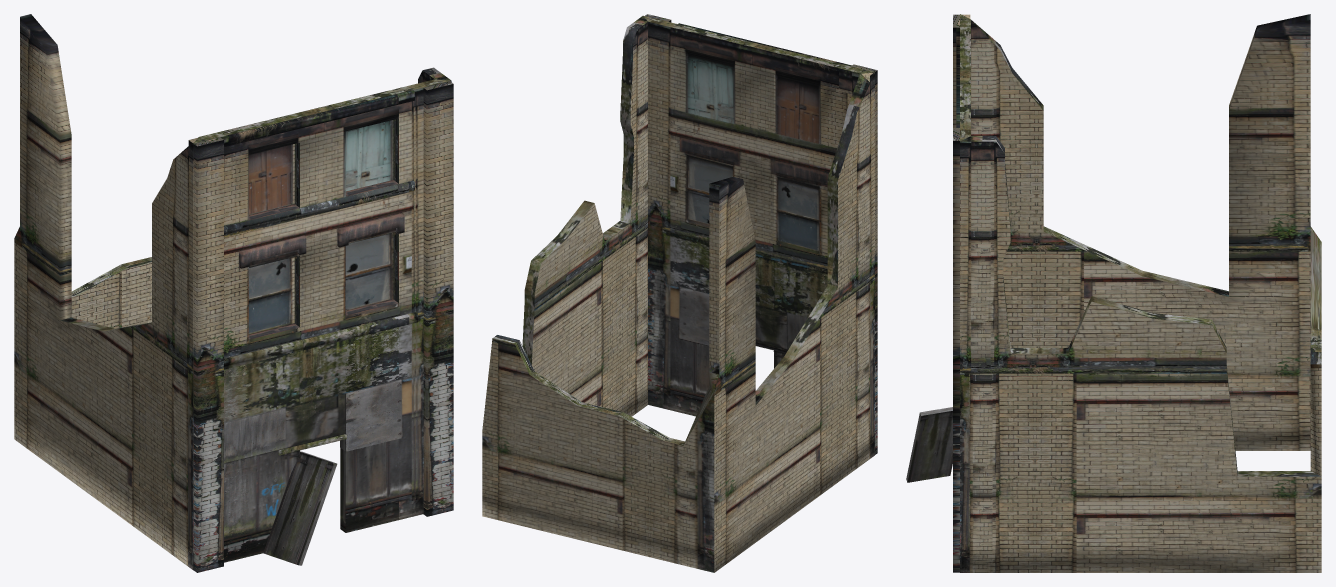
The model's file is building10.obj.
3 renders of one model, left to right at view 1: azimuth 30°, elevation 25°; view 2: azimuth 150°, elevation 25°; view 3: azimuth 270°, elevation 25°, orthographic. The views are drawn at different scales.
Parts seen in each view (by area): view 1: material24; view 2: material24; view 3: material24.
Boxes of the visible parts, x1,y1,x2,y2 form: material24: (14,14,453,572); material24: (482,14,877,572); material24: (906,14,1321,572).
Bounding box in the file's own units: 259 × 409 × 357.
1 material, 1 textured.
